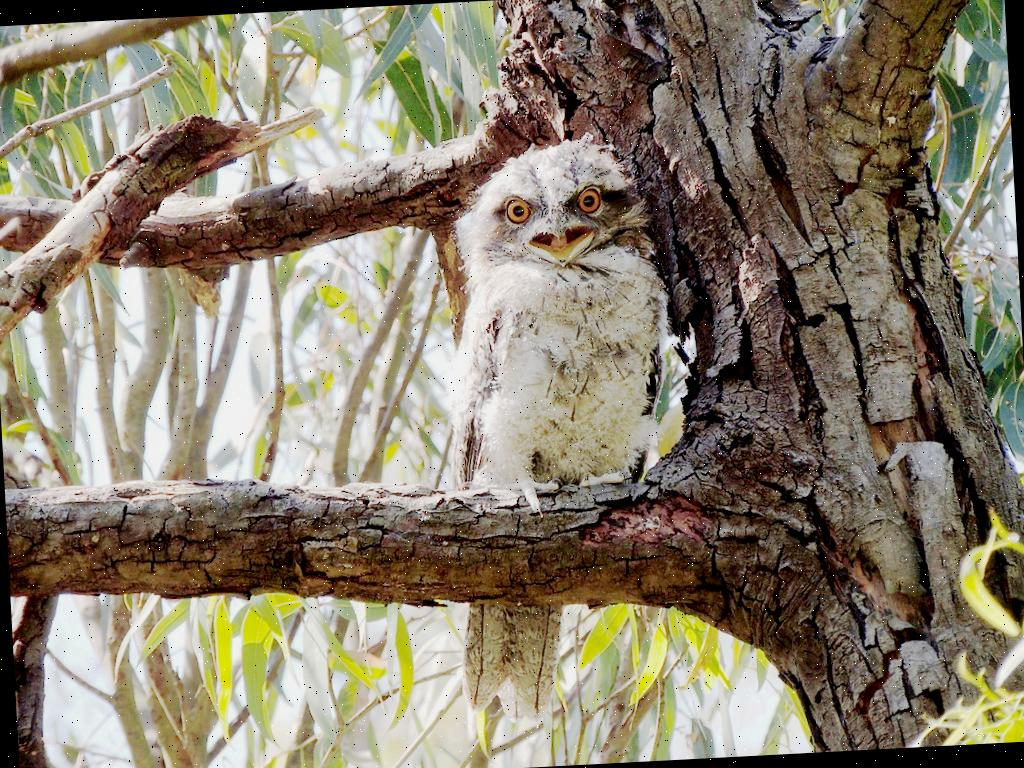Owl: (432, 129, 692, 727)
